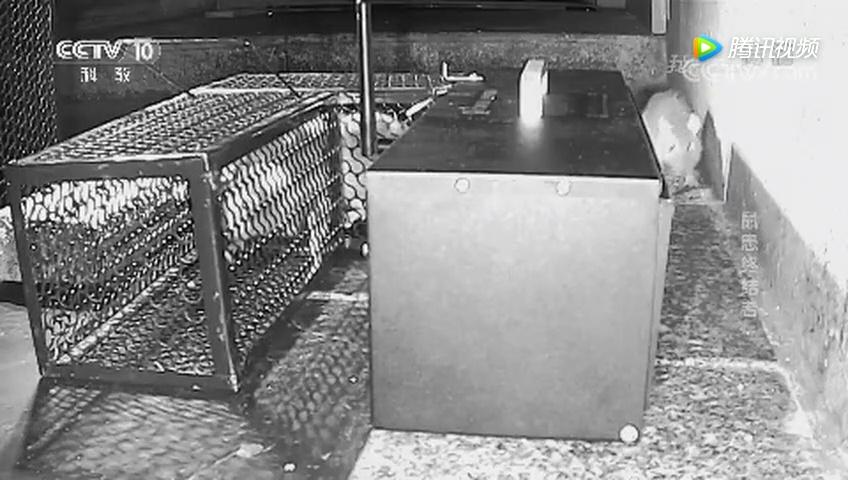rat: (640, 82, 710, 193)
